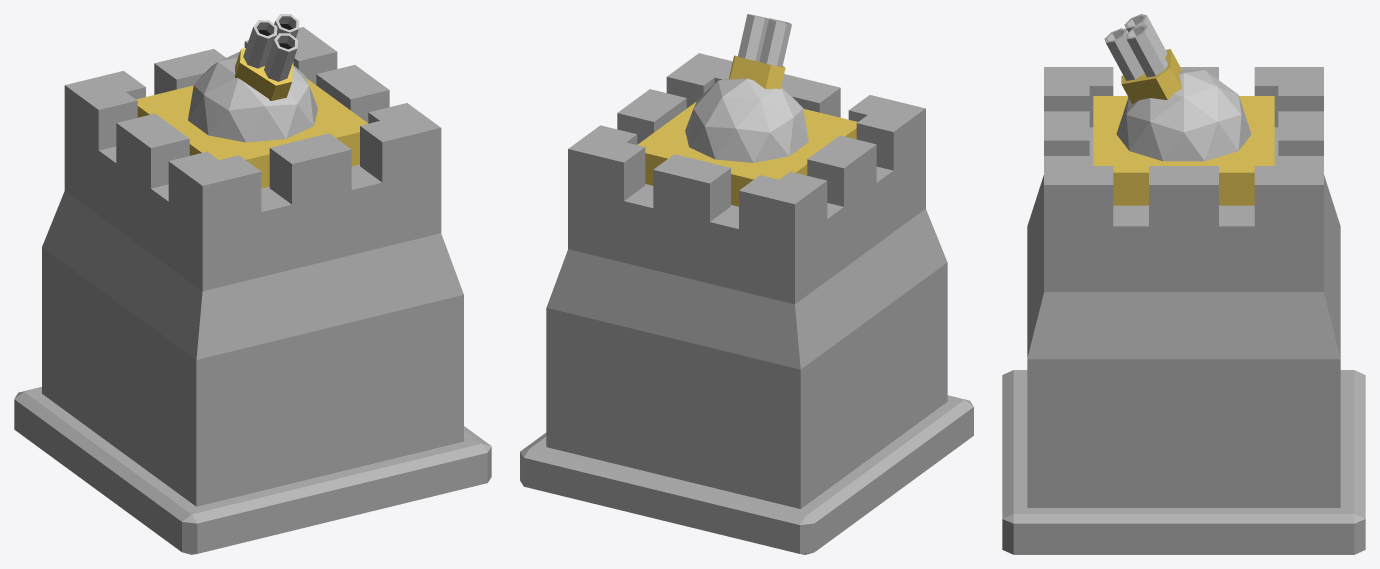
The model's file is shrapnel_mortar.fbx.
3 renders of one model, left to right at view 1: azimuth 30°, elevation 25°; view 2: azimuth 150°, elevation 25°; view 3: azimuth 270°, elevation 25°, orthographic. The views are drawn at different scales.
Parts seen in each view (by area): view 1: Cube.025, Cube.026, Cube, Icosphere, Cube.023, Cylinder.001, Cylinder.003, Cylinder.002; view 2: Cube.025, Cube.026, Cube, Icosphere, Cube.023, Cylinder.001, Cylinder.002, Cylinder; view 3: Cube.025, Cube, Cube.026, Icosphere, Cube.023, Cylinder.001, Cylinder, Cylinder.003, Cylinder.002.
Part boxes in pixels (x1,y1,x2,y2): Cube.025: (42,126,463,506); Cube.026: (64,27,441,226); Cube: (14,387,491,554); Icosphere: (188,51,317,142); Cube.023: (136,78,367,188); Cylinder.001: (235,48,293,100); Cylinder.003: (264,33,297,81); Cylinder.002: (243,20,277,68); Cube.025: (546,147,947,508); Cube.026: (568,53,925,242); Cube: (520,395,973,554); Icosphere: (685,78,808,162); Cube.023: (637,101,857,206); Cylinder.001: (729,55,785,89); Cylinder.002: (759,19,791,66); Cylinder: (738,14,769,61); Cube.025: (1027,127,1340,507); Cube: (1002,370,1365,554); Cube.026: (1044,67,1323,226); Icosphere: (1116,70,1251,161); Cube.023: (1093,96,1274,205); Cylinder.001: (1121,49,1182,104); Cylinder: (1125,25,1168,77); Cylinder.003: (1104,28,1144,80); Cylinder.002: (1124,14,1167,57).
Size of the model in its own units: 400 by 561 by 400.
